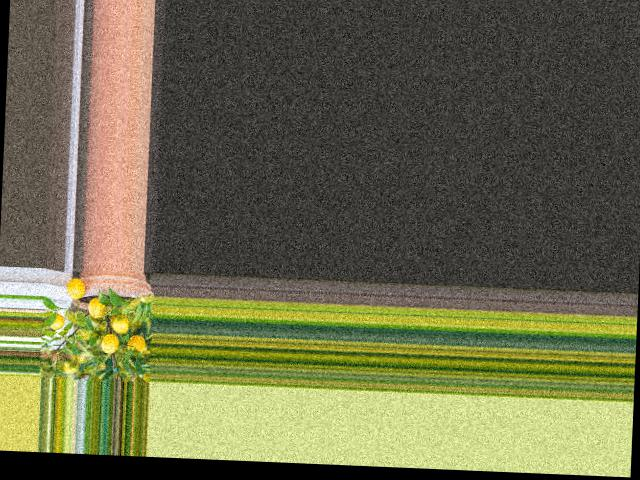lemon: (49, 309, 65, 332)
